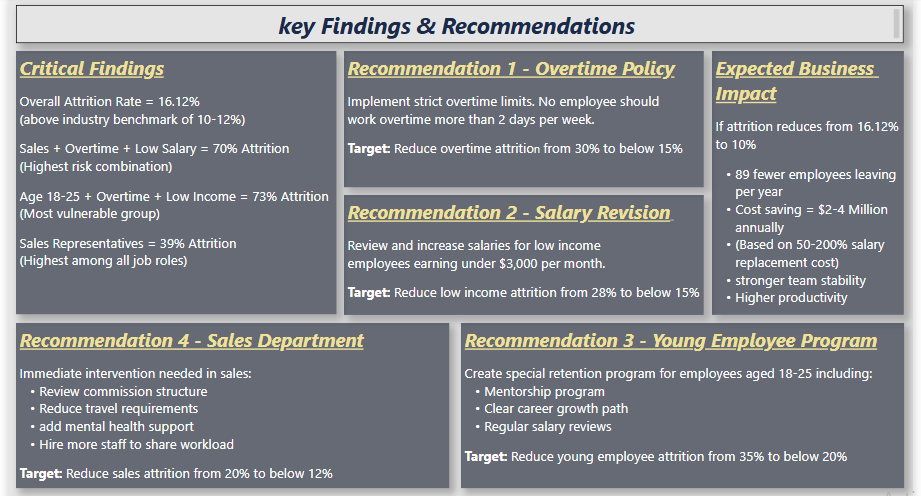

Layout of this report page (visuals, bound fields, positions):
{"tool":"powerbi","page":{"name":"Recommendations","canvas":[1280,720],"ordinal":4},"visuals":[{"type":"textbox","box":[10,11,1258.2,53.8],"z":0},{"type":"textbox","box":[10,77.1,454.3,372.9],"z":1000},{"type":"textbox","box":[474.3,77.1,510,192.9],"z":2000},{"type":"textbox","box":[474.3,280,510,170],"z":3000},{"type":"textbox","box":[640.6,462,627.9,233.9],"z":4000},{"type":"textbox","box":[9.9,462,613.7,233.9],"z":5000},{"type":"textbox","box":[996.4,76.5,272.1,374.2],"z":6000}]}

Visuals, with their boxes in screenshot pixels (x1, y1, x2, y2):
textbox: crop(14, 3, 901, 41)
textbox: crop(14, 50, 335, 312)
textbox: crop(342, 50, 701, 186)
textbox: crop(342, 193, 701, 312)
textbox: crop(459, 321, 902, 486)
textbox: crop(14, 321, 447, 486)
textbox: crop(710, 49, 902, 313)
